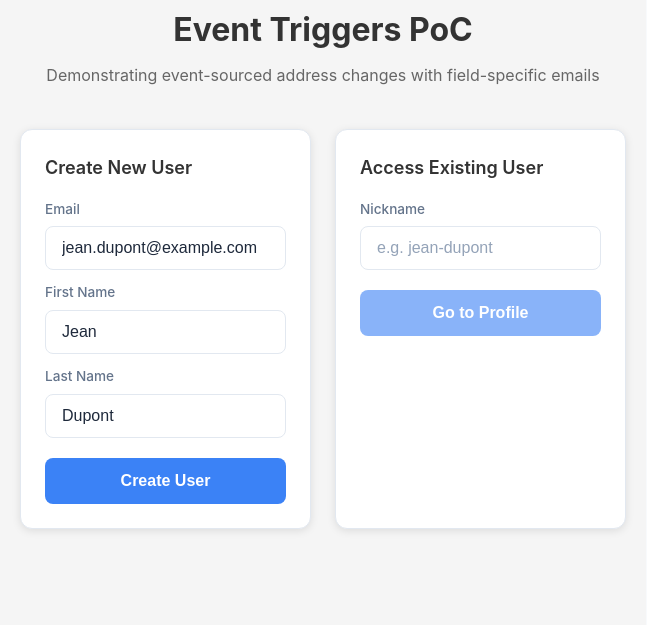
Test: Home › displays error message when API fails
What coordinates should you click on to do the following:
click the button "Create User"
I would click on:
 (166, 481)
Its box is [45, 458, 286, 504].
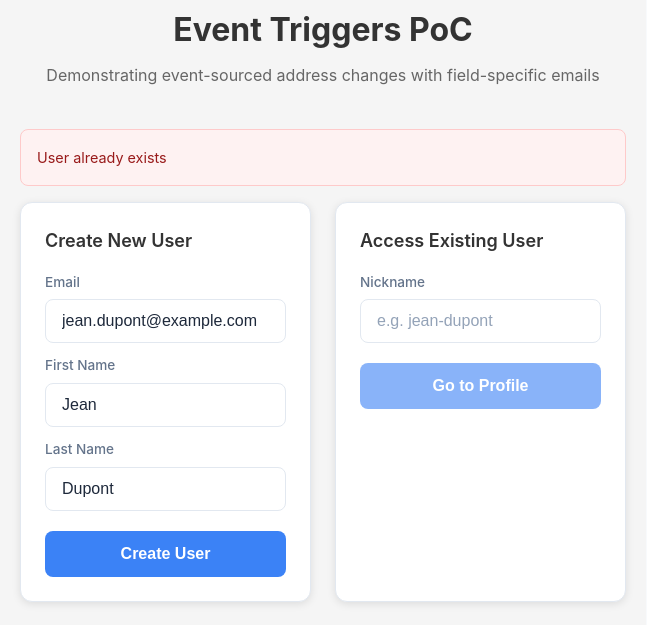
Expected: the text "User already exists" is shown, [20, 129, 626, 186]
